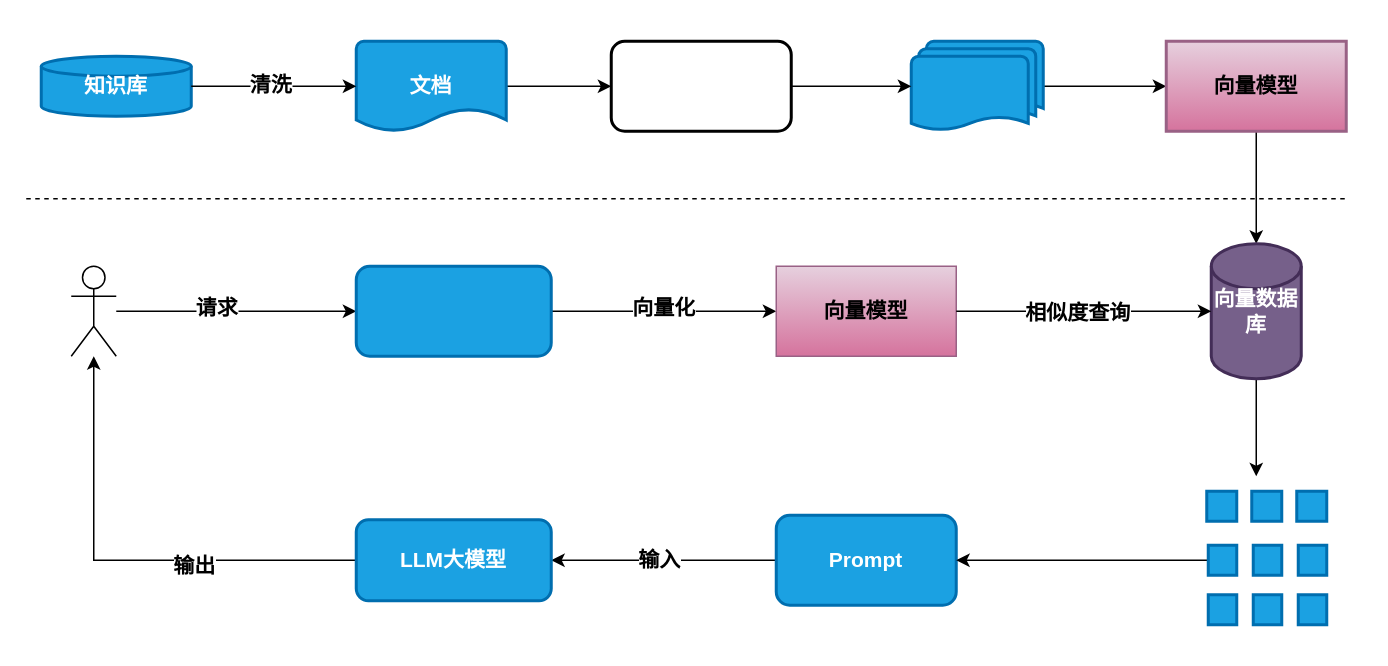
Some shapes in this 1388 by 666 pixel diagram are drawn without their labels. The centre of each missing label's shape, as x and y in pixels:
"分段" belongs at (976,85).
"切分" belongs at (700,85).
"问题" belongs at (453,310).
